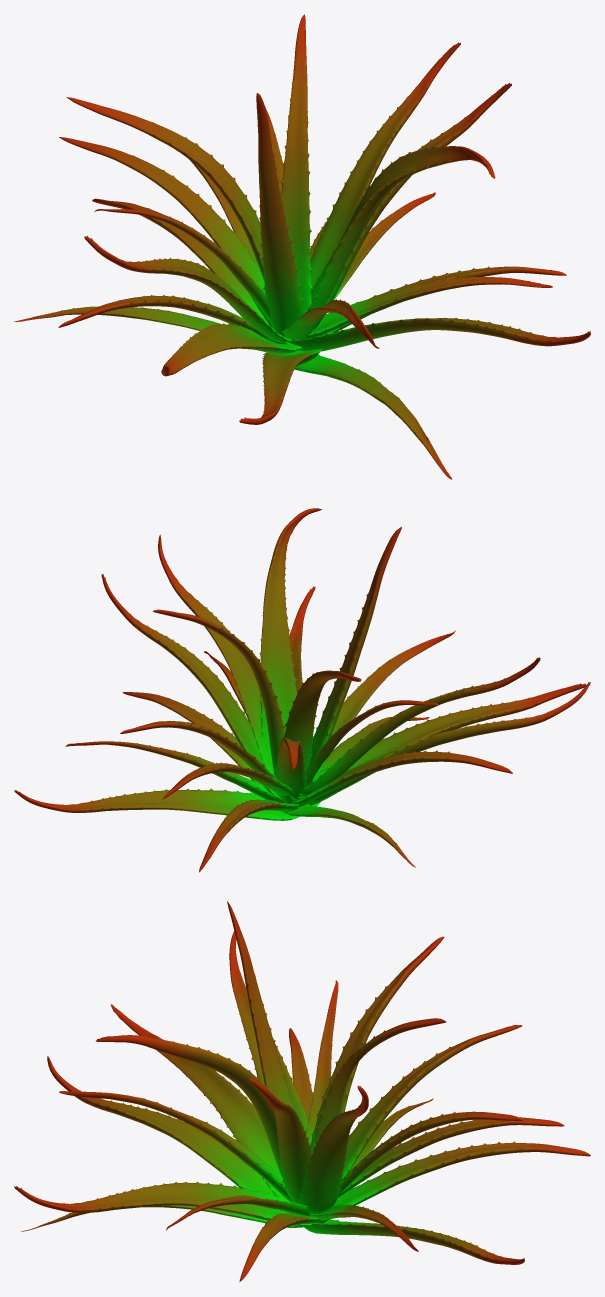
Rendered from Aloe Vera_LOD0_Var4_ve4tbbrha.fbx.
3 renders of one model, top to bottom at view 1: azimuth 30°, elevation 25°; view 2: azimuth 150°, elevation 25°; view 3: azimuth 270°, elevation 25°, orthographic. The views are drawn at different scales.
Parts seen in each view (by area): view 1: _7wi8_Var4_LOD0; view 2: _7wi8_Var4_LOD0; view 3: _7wi8_Var4_LOD0.
Boxes of the visible parts, x1,y1,x2,y2 form: _7wi8_Var4_LOD0: [14, 14, 590, 479]; _7wi8_Var4_LOD0: [14, 508, 590, 872]; _7wi8_Var4_LOD0: [14, 901, 590, 1282].
Bounding box in the file's own units: 76.84 × 49.13 × 87.28.
